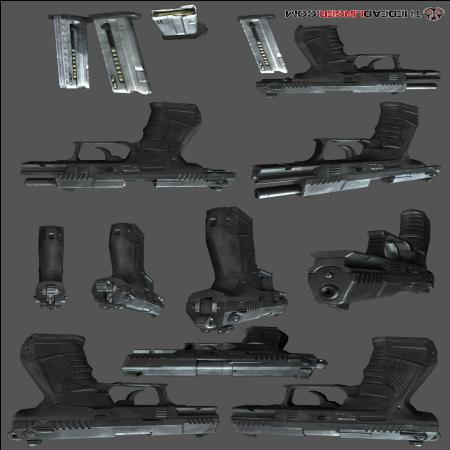Pistol: (11, 332, 218, 444), (230, 336, 439, 446), (16, 100, 234, 190), (252, 102, 433, 198), (252, 25, 436, 98), (309, 207, 433, 311), (187, 206, 289, 332), (120, 326, 328, 378), (90, 222, 164, 319), (32, 225, 64, 310)
